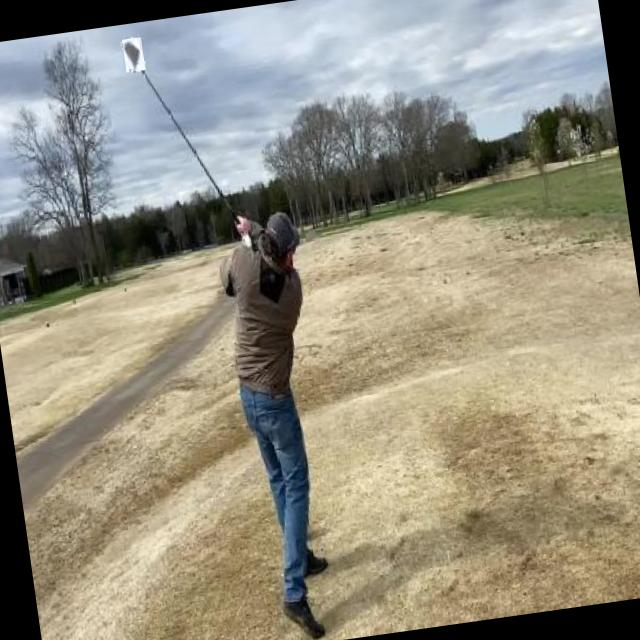club head: (122, 37, 146, 73)
